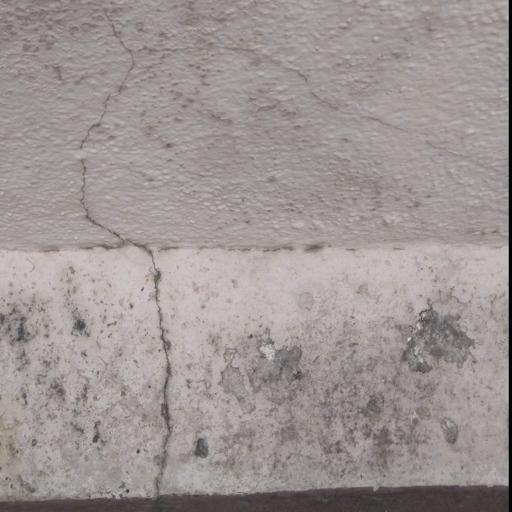minor_crack: (78, 14, 213, 509), (146, 24, 512, 181)
